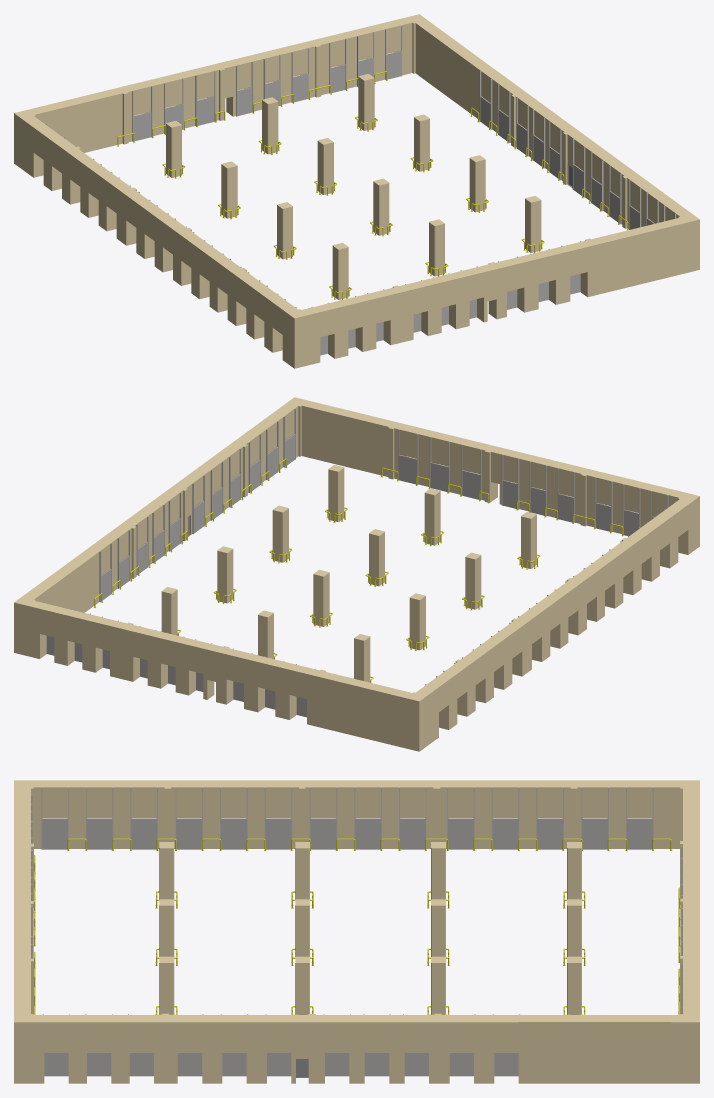
The model's file is Yangji_gym_minimap_zup.fbx.
3 views of the same model, one above another, from view 1: azimuth 30°, elevation 25°; view 2: azimuth 150°, elevation 25°; view 3: azimuth 270°, elevation 25° (orthographic). The views are drawn at different scales.
Visible parts, largest first — view 1: a_f_wall57, a_f_wall321, a_f_wall316, a_f_wall212, a_f_wall208, a_f_wall61, a_f_wall307, a_f_wall320, a_f_wall55, a_f_wall311, a_f_wall268, a_f_wall56 (+46 smaller); view 2: a_f_wall316, a_f_wall57, a_f_wall321, a_f_wall312, a_f_wall311, a_f_wall307, a_f_wall320, a_f_wall61, a_f_wall208, a_f_wall212, a_f_wall314, a_f_wall315 (+45 smaller); view 3: a_f_wall321, a_f_wall268, a_f_wall311, a_f_wall299, a_f_wall263, a_f_wall291, a_f_wall22, a_f_wall258, a_f_wall259, a_f_wall292, a_f_wall28, a_f_wall24 (+81 smaller).
Part boxes in pixels (x1,y1,x2,y2): a_f_wall57: (598,219,681,292); a_f_wall321: (419,23,492,119); a_f_wall316: (34,90,115,152); a_f_wall212: (282,307,320,368); a_f_wall208: (383,284,413,345); a_f_wall61: (477,261,506,322); a_f_wall307: (300,37,329,97); a_f_wall320: (207,60,236,120); a_f_wall55: (580,237,604,297); a_f_wall311: (394,14,430,75); a_f_wall268: (674,210,699,274); a_f_wall56: (549,246,570,304); a_f_wall316: (324,673,407,746); a_f_wall57: (306,402,389,475); a_f_wall321: (26,548,99,612); a_f_wall312: (399,690,430,751); a_f_wall311: (14,594,46,658); a_f_wall307: (110,621,139,681); a_f_wall320: (203,643,233,704); a_f_wall61: (481,444,510,504); a_f_wall208: (574,467,603,527); a_f_wall212: (667,490,699,554); a_f_wall314: (307,669,330,728); a_f_wall315: (275,661,296,719); a_f_wall321: (518,1015,671,1083); a_f_wall268: (14,1010,44,1083); a_f_wall311: (671,1006,699,1083); a_f_wall299: (291,1014,324,1083); a_f_wall263: (154,1013,177,1083); a_f_wall291: (429,1013,449,1083); a_f_wall22: (425,780,448,848); a_f_wall258: (202,1015,222,1083); a_f_wall259: (246,1015,266,1083); a_f_wall292: (474,1015,494,1083); a_f_wall28: (335,780,355,848); a_f_wall24: (517,780,537,848).
Size of the model in its own units: 1659 by 1987 by 197.
